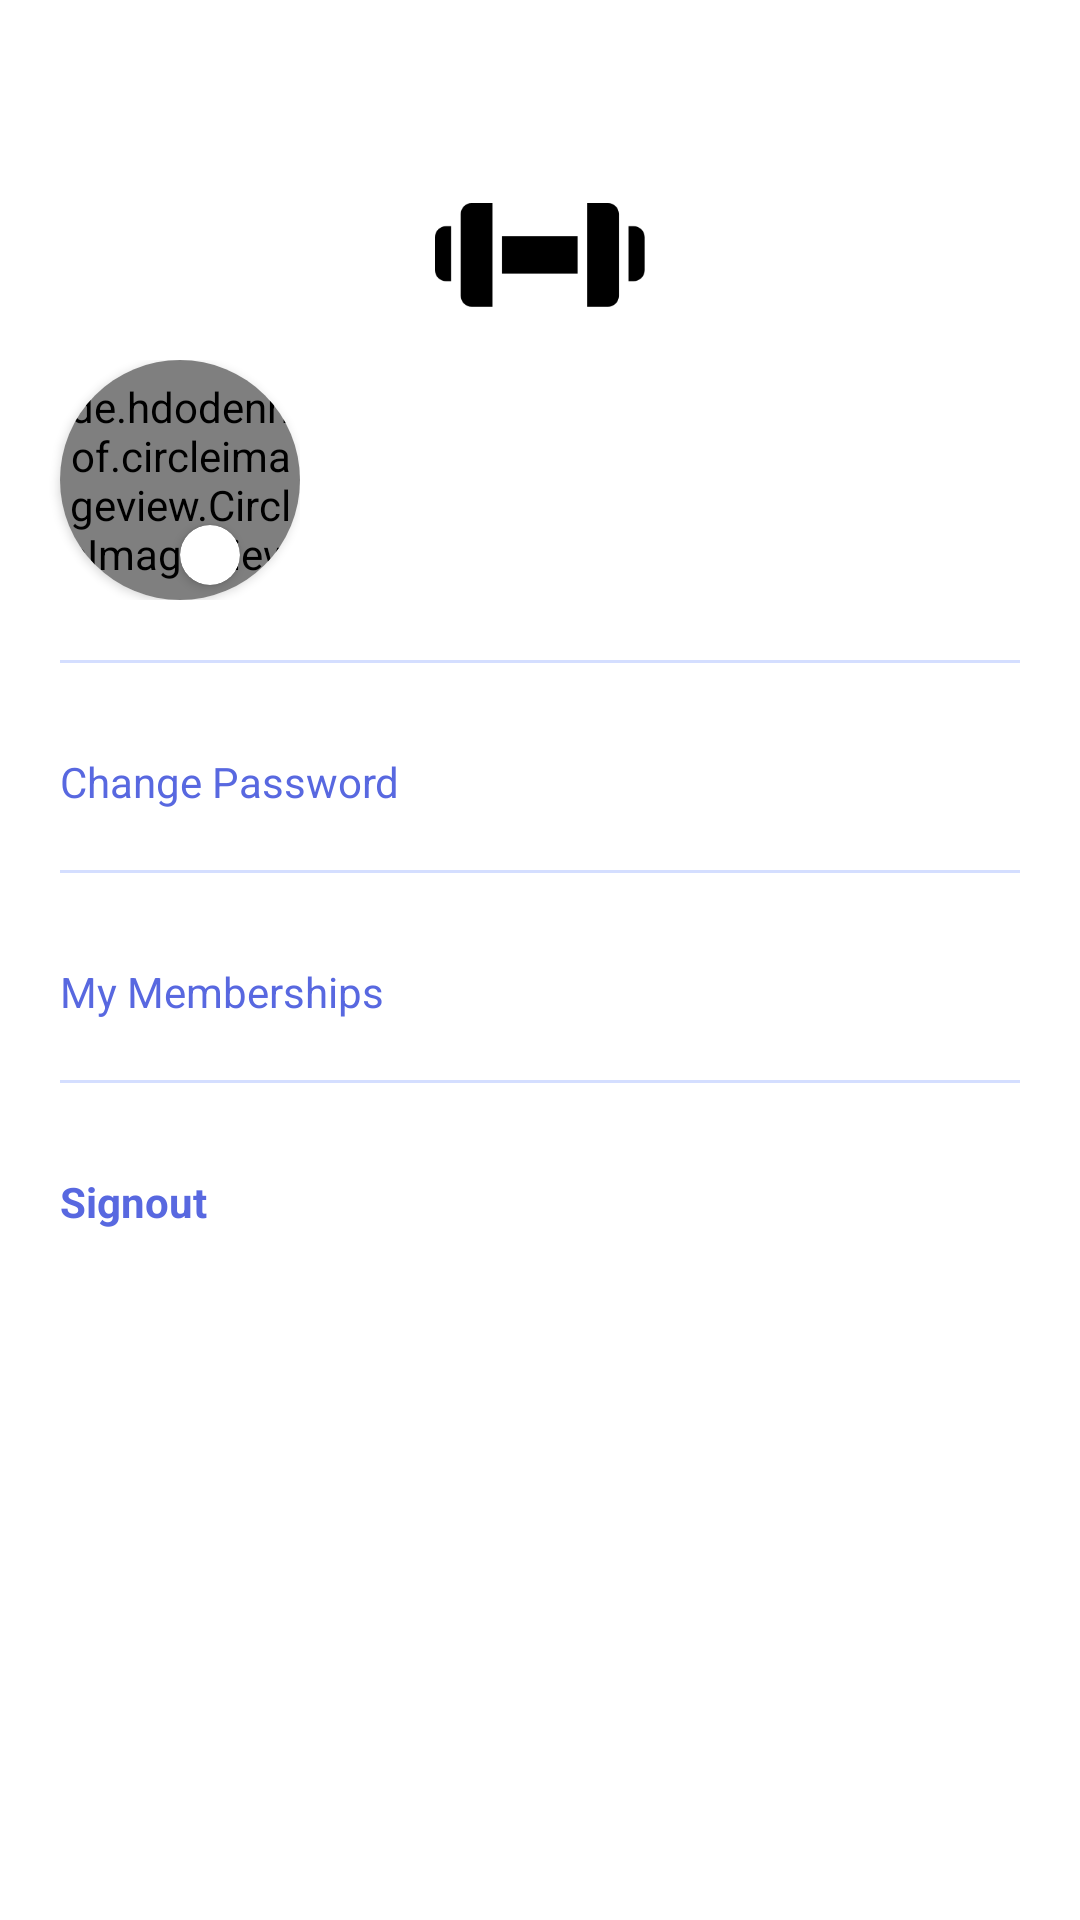

Where to tap for icons on this 1080px x 1920px app screen, as [x,y]:
gym: [540,255]
